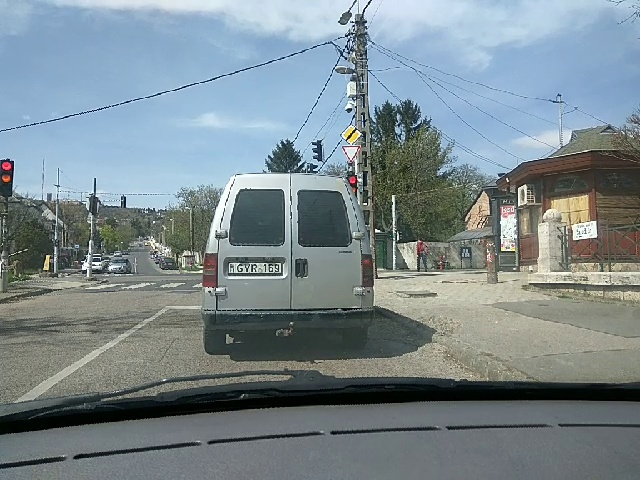car: (92, 258, 127, 273), (82, 260, 104, 273)
